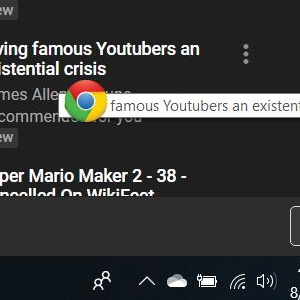chrome: (64, 79, 107, 122)
